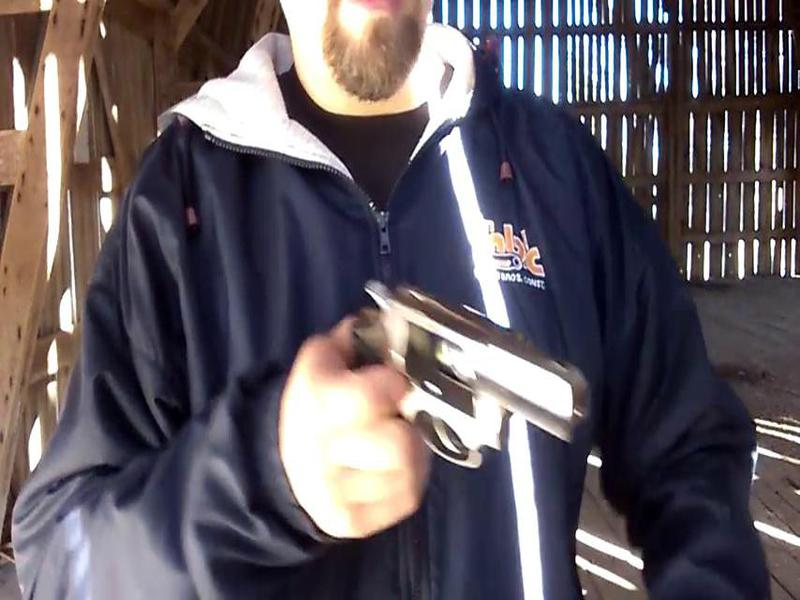Revolver: (288, 259, 600, 525)
